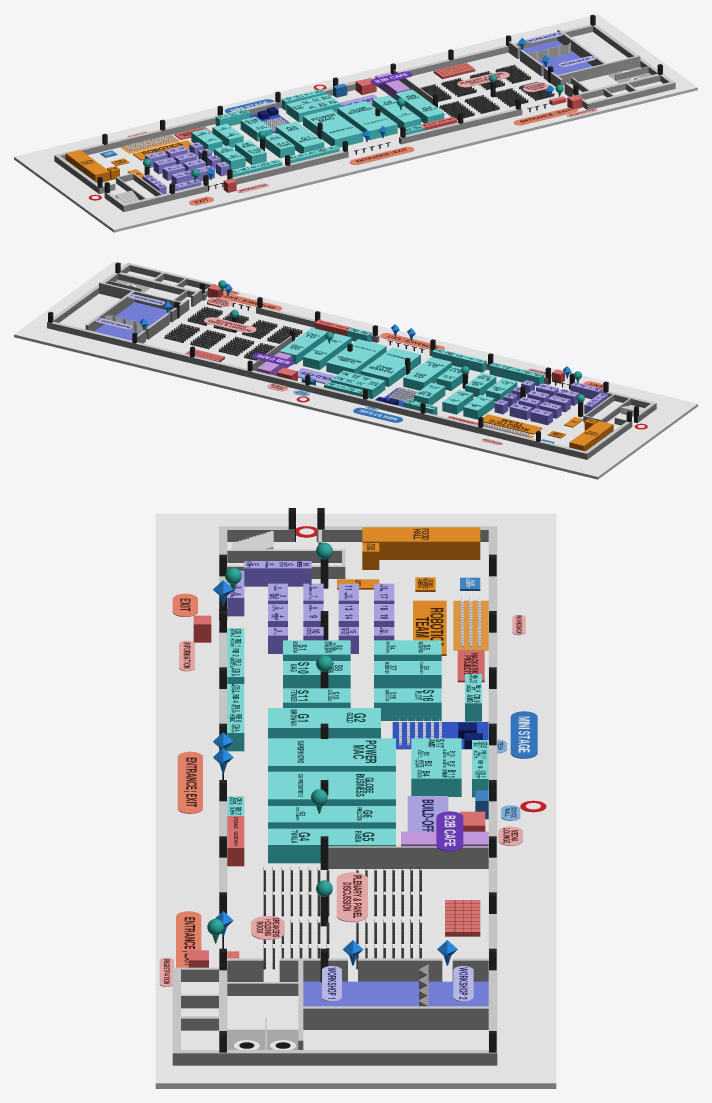
File: iotcon2026-floorplan_5.glb
3 views of the same model, one above another, from view 1: azimuth 30°, elevation 25°; view 2: azimuth 150°, elevation 25°; view 3: azimuth 270°, elevation 25° (orthographic). The views are drawn at different scales.
Visible parts, largest first — view 1: site-slab, wall-back, booths, columns, text-0E3B3C, wall-front-3, wall-front-2, wall-workshop-bottom, C1, C2, food-hall, wall-front-1 (+23 smaller); view 2: site-slab, wall-back, booths, columns, text-0E3B3C, P2, P1, workshop-1, food-hall, wall-workshop-bottom, wall-front-4, wall-right (+27 smaller); view 3: site-slab, columns, booths, wall-right, text-0E3B3C, wall-workshop-ahu, wall-back, food-hall, wall-partition, workshop-1, C1, P2 (+34 smaller).
Boxes of the visible parts, x1,y1,x2,y2 form: site-slab: (14, 14, 697, 232); wall-back: (54, 24, 595, 162); booths: (145, 142, 229, 184); columns: (97, 14, 662, 197); text-0E3B3C: (198, 90, 436, 172); wall-front-3: (399, 108, 522, 144); wall-front-2: (232, 150, 348, 184); wall-workshop-bottom: (557, 55, 640, 85); C1: (321, 120, 363, 147); C2: (352, 112, 397, 140); food-hall: (65, 150, 109, 182); wall-front-1: (121, 184, 207, 211); site-slab: (14, 261, 697, 479); wall-back: (47, 321, 589, 459); booths: (494, 380, 579, 425); columns: (48, 262, 638, 441); text-0E3B3C: (289, 328, 541, 408); P2: (326, 351, 370, 374); P1: (360, 359, 404, 386); workshop-1: (114, 302, 169, 331); food-hall: (569, 421, 613, 451); wall-workshop-bottom: (99, 282, 181, 310); wall-front-4: (114, 272, 206, 300); wall-right: (47, 263, 131, 328); site-slab: (155, 513, 556, 1088); columns: (219, 508, 496, 1052); booths: (268, 583, 394, 653); wall-right: (172, 1050, 496, 1065); text-0E3B3C: (229, 629, 487, 843); wall-workshop-ahu: (298, 1006, 488, 1029); wall-back: (488, 526, 497, 1065); food-hall: (362, 527, 480, 559); wall-partition: (328, 846, 488, 868); workshop-1: (303, 981, 418, 1006); C1: (268, 738, 333, 771); P2: (333, 771, 395, 805).
Size of the model in its own units: 160 by 6.55 by 47.5.
